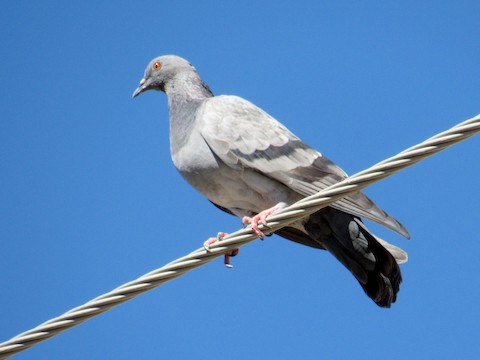pigeon: (129, 50, 418, 310)
